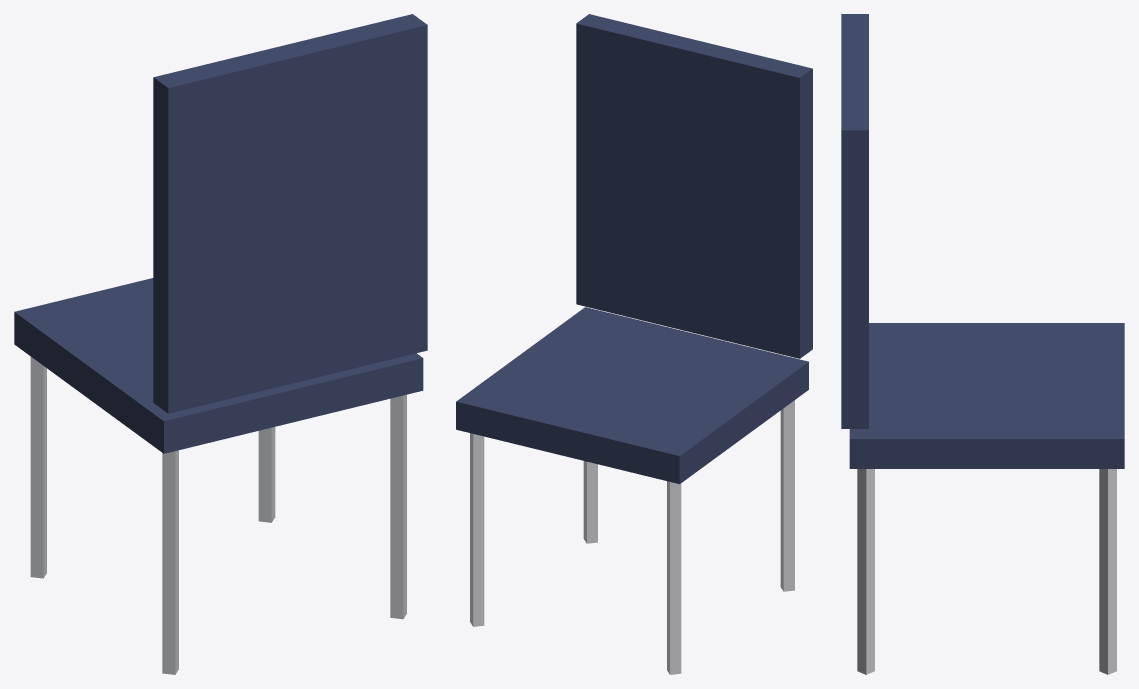
Rendered from WardChair.obj.
The picture shows the model from 3 angles, left to right: view 1: azimuth 30°, elevation 25°; view 2: azimuth 150°, elevation 25°; view 3: azimuth 270°, elevation 25°; orthographic projection. The views are drawn at different scales.
Parts seen in each view (by area): view 1: WardChair; view 2: WardChair; view 3: WardChair.
Part boxes in pixels (x1=…): WardChair: x1=14, y1=14, x2=427, y2=674; WardChair: x1=456, y1=14, x2=812, y2=674; WardChair: x1=841, y1=14, x2=1124, y2=674.
Bounding box in the file's own units: 0.5 × 1.1 × 0.515.
Materials: 1 (1 with a texture image).
